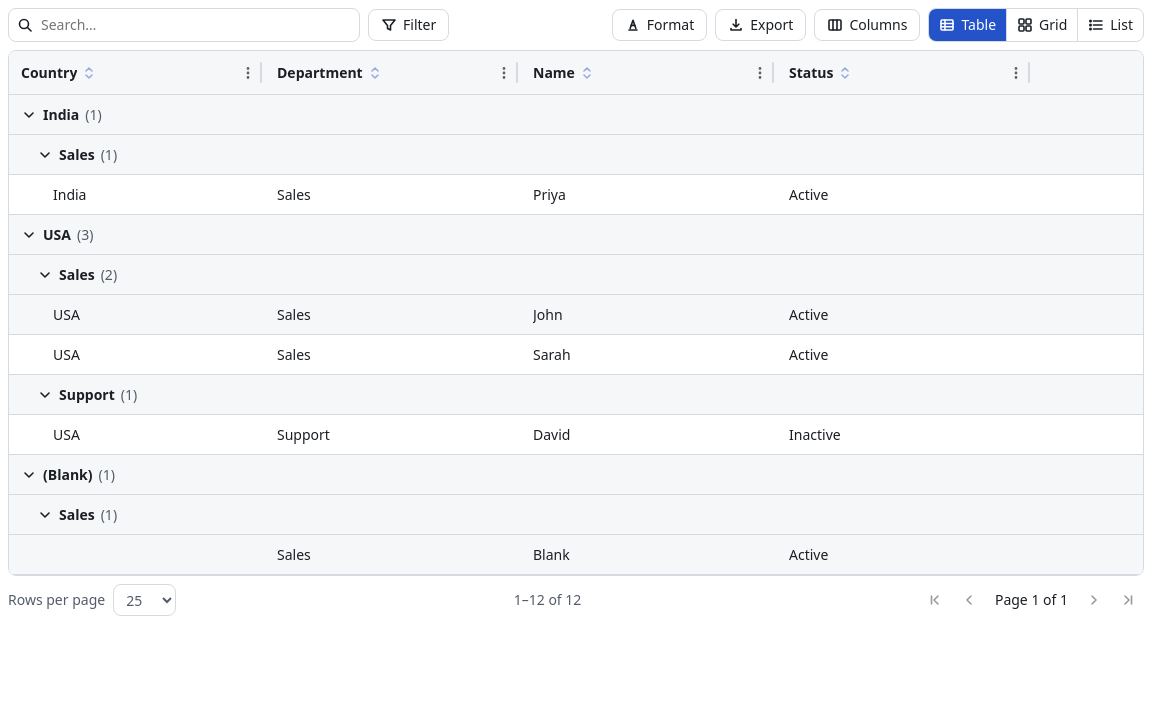
row grouping › keeps a collapsed child collapsed when its parent is expanded again
Click the row "Sales (2)" at (576, 275), box [9,255,1143,295]
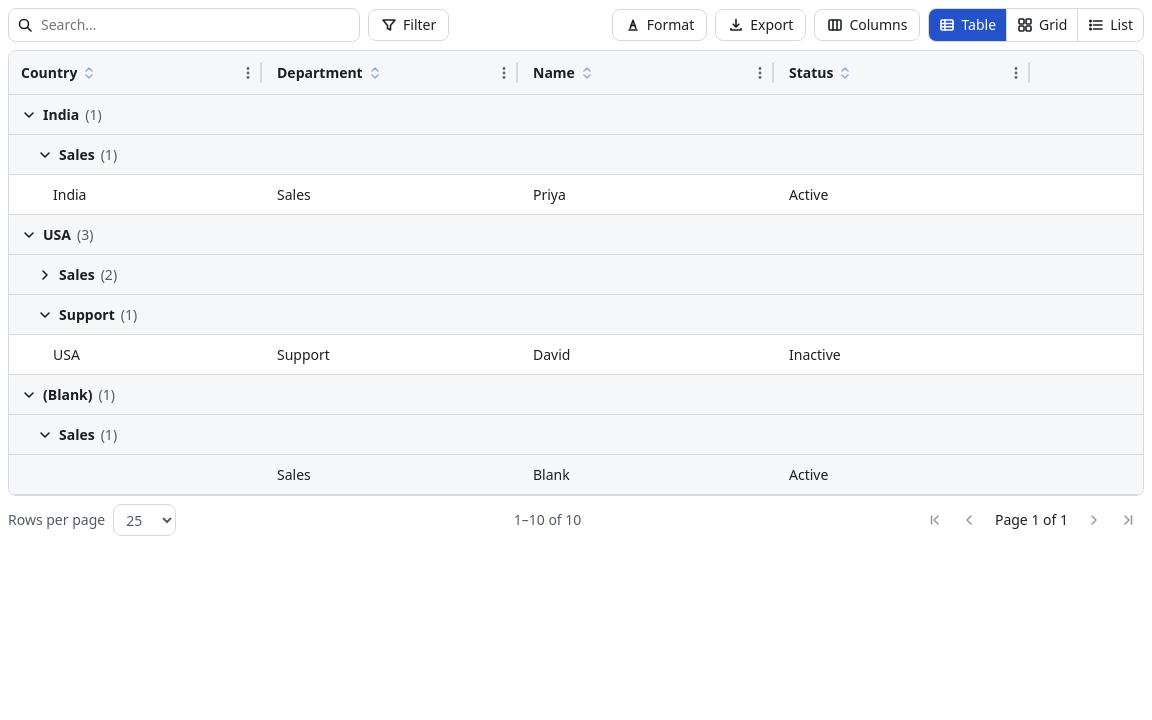
Expected: the text "David" is shown, [533,345,570,364]
Now the text "John" is gone
Click the row "USA (3)" at (576, 235), box [9,215,1143,255]
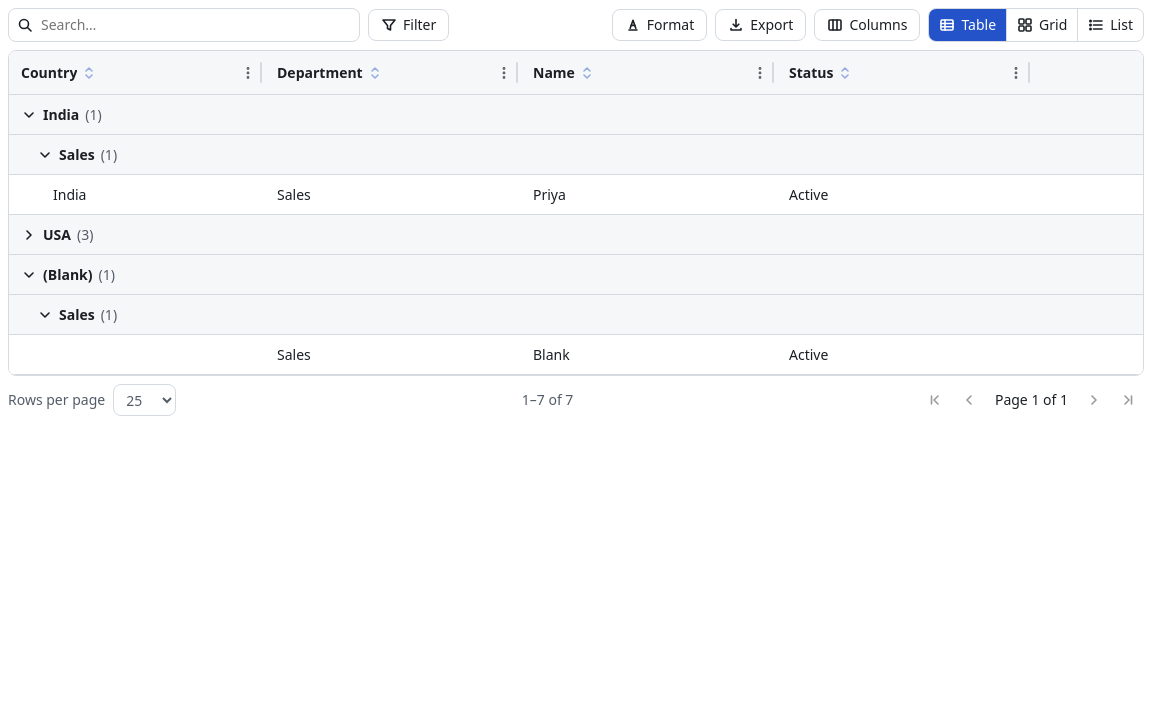
Now the text "David" is gone
Click the row "USA (3)" at (576, 235), box [9,215,1143,255]
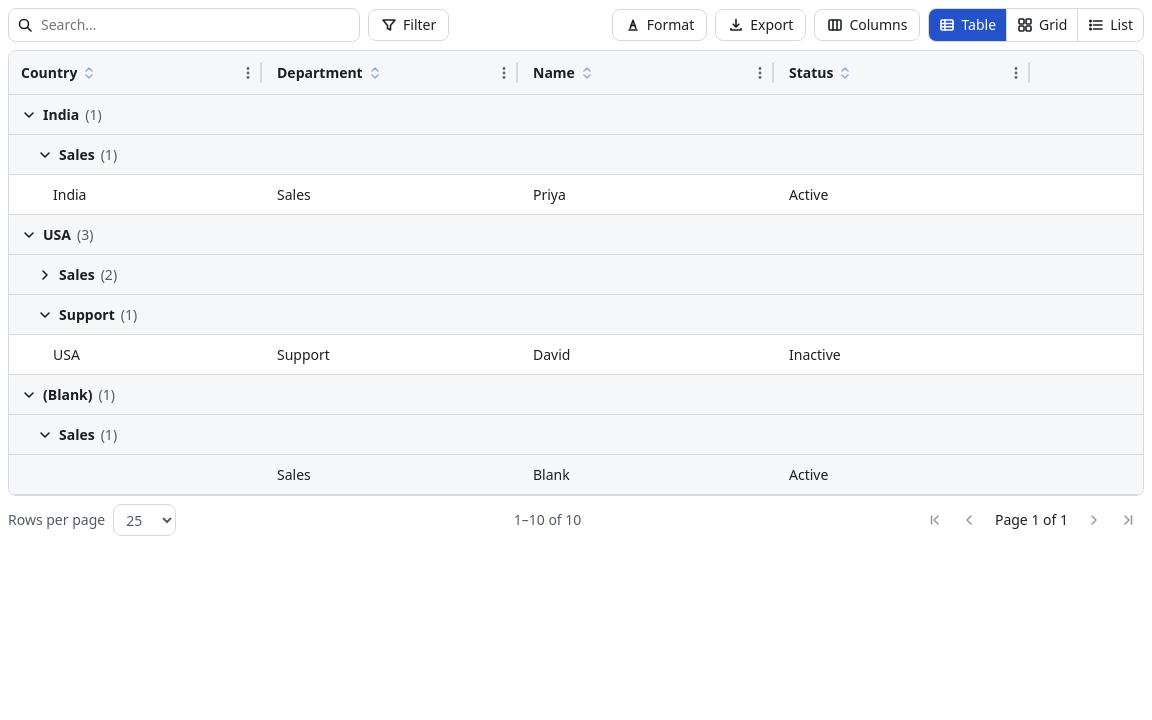
Expected: the text "John" is not shown
Now the text "David" is shown, box [533,345,570,364]
